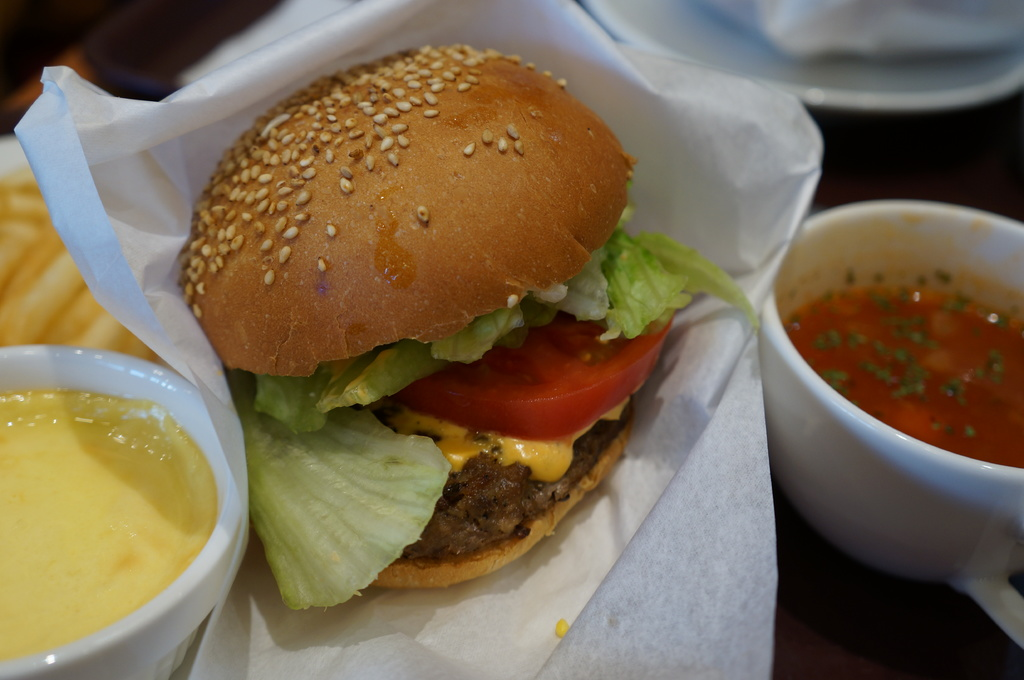Hamburger: (176, 40, 760, 614)
